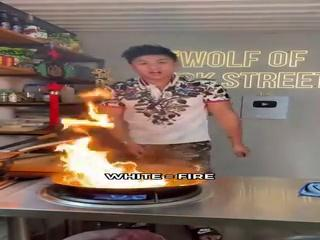Fire: (59, 89, 205, 184)
